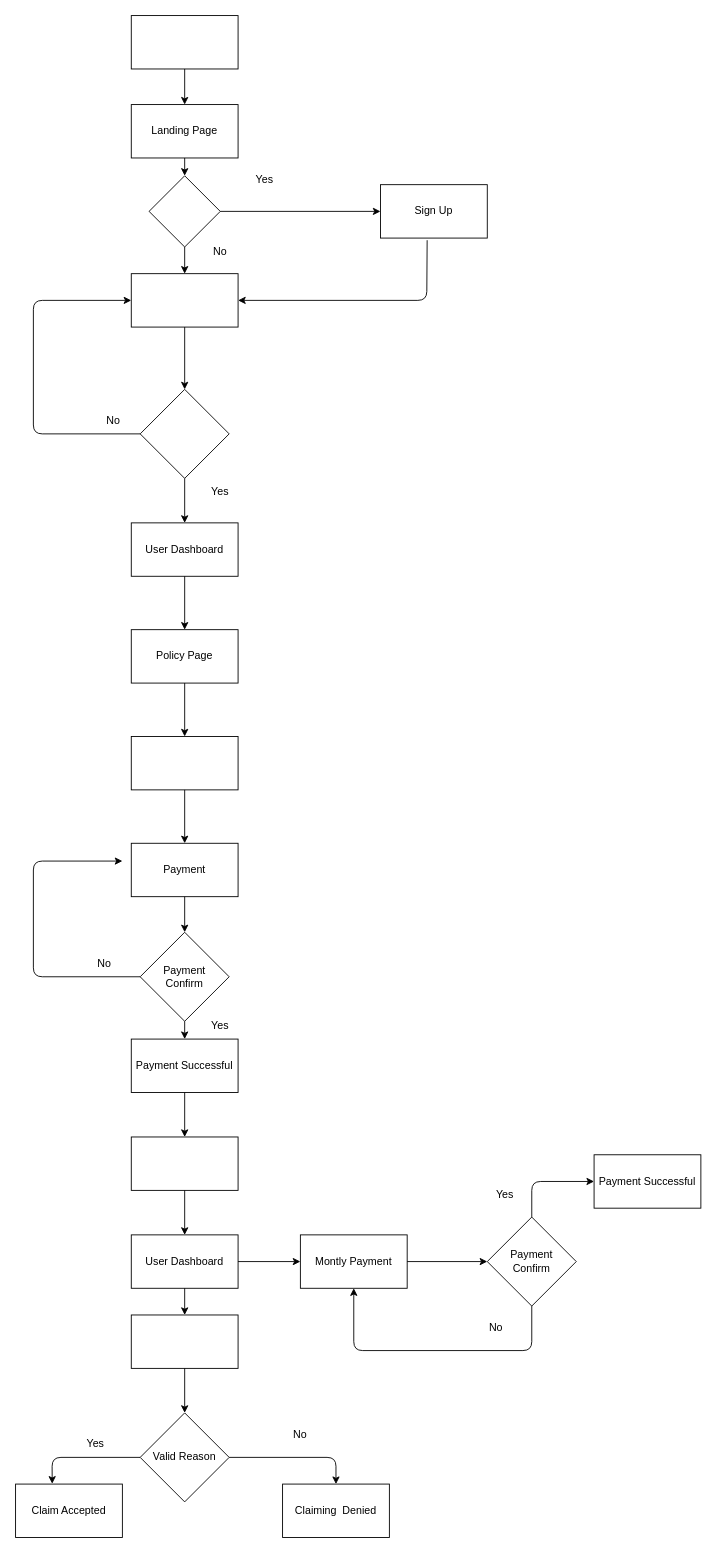
The diagram is 716 pixels wide and 1553 high, and some of its shapes have lost their labels. The shapes that lost their labels are listed below. From the top down, each one's box as (x1, y1, x2, y2) in pixels, then its label:
(130, 15, 238, 69): User
(148, 175, 220, 247): New User
(130, 273, 238, 327): Sign In
(139, 388, 229, 478): Credentials Correct
(130, 736, 238, 790): Selecting Policy & Filling Form Details
(130, 1136, 238, 1190): Policy Added
(130, 1314, 238, 1368): Claiming the Policy
